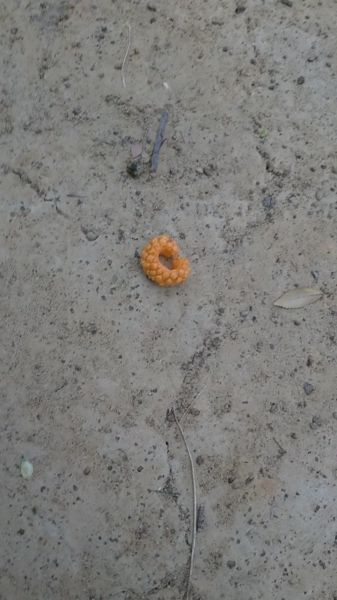eggs: (138, 229, 191, 292)
